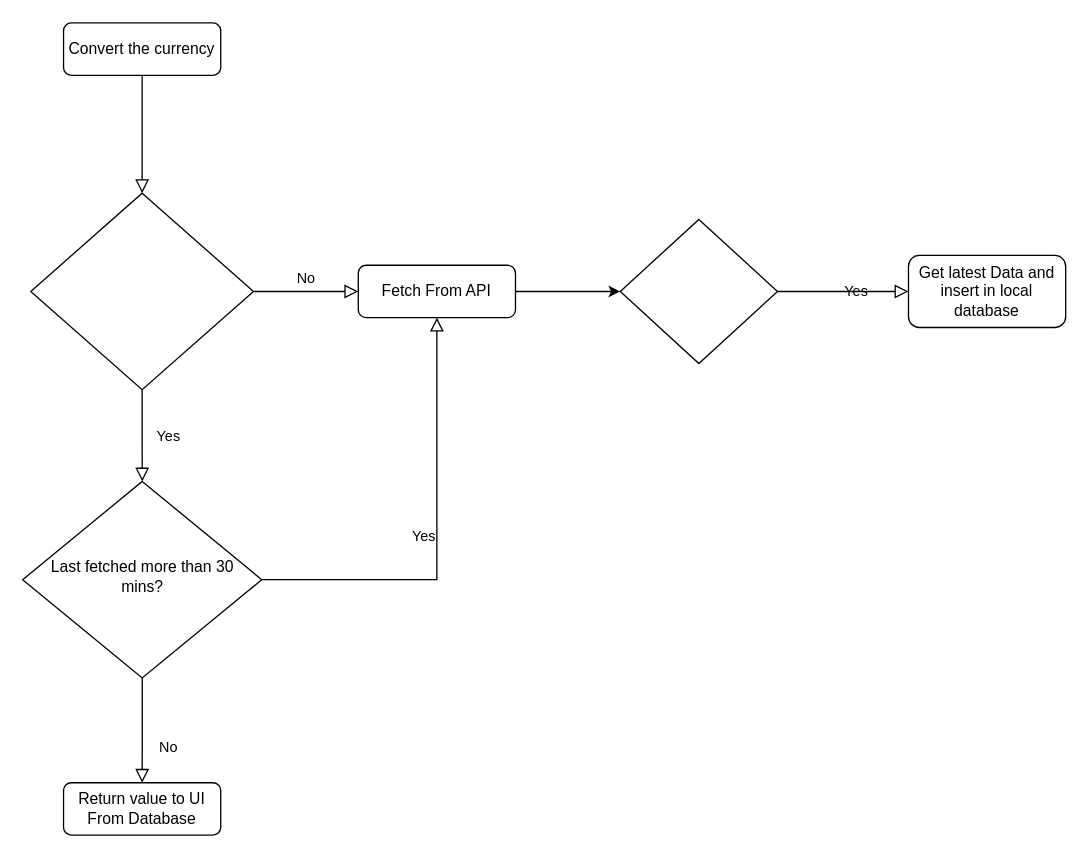
This 1090x858 diagram has some shape labels left out. The shapes that lost their labels are listed below. From the top down, each one's box as (x1, y1, x2, y2) in pixels, then its label:
(29, 192, 253, 390): Values availble in the database?
(619, 218, 777, 364): Internet Available?
